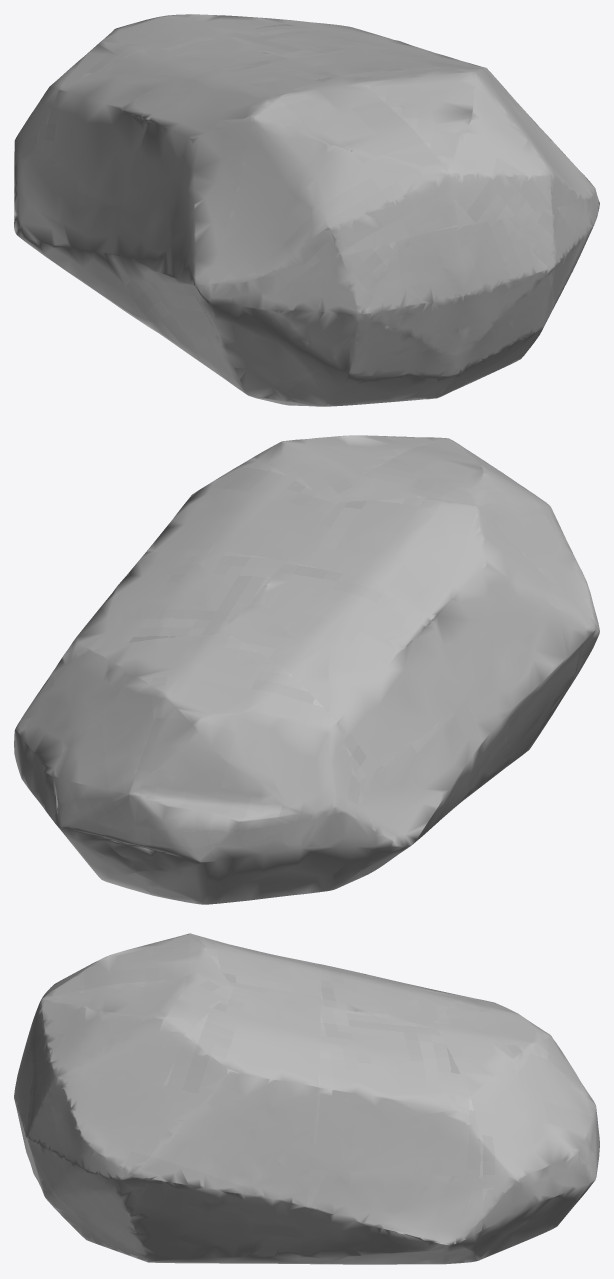
The model's file is xs_pebble.glb.
The picture shows the model from 3 angles, top to bottom: view 1: azimuth 30°, elevation 25°; view 2: azimuth 150°, elevation 25°; view 3: azimuth 270°, elevation 25°; orthographic projection. The views are drawn at different scales.
Visible parts, largest first — view 1: tripo_node_52c6fa0d-bf56-464e-a2c6-6e66452987dc; view 2: tripo_node_52c6fa0d-bf56-464e-a2c6-6e66452987dc; view 3: tripo_node_52c6fa0d-bf56-464e-a2c6-6e66452987dc.
Boxes of the visible parts, x1=… form: tripo_node_52c6fa0d-bf56-464e-a2c6-6e66452987dc: x1=14, y1=14, x2=599, y2=406; tripo_node_52c6fa0d-bf56-464e-a2c6-6e66452987dc: x1=14, y1=435, x2=599, y2=904; tripo_node_52c6fa0d-bf56-464e-a2c6-6e66452987dc: x1=14, y1=933, x2=599, y2=1264.
Bounding box in the file's own units: 0.6833 × 0.4586 × 0.9997.
1 material, 1 textured.
